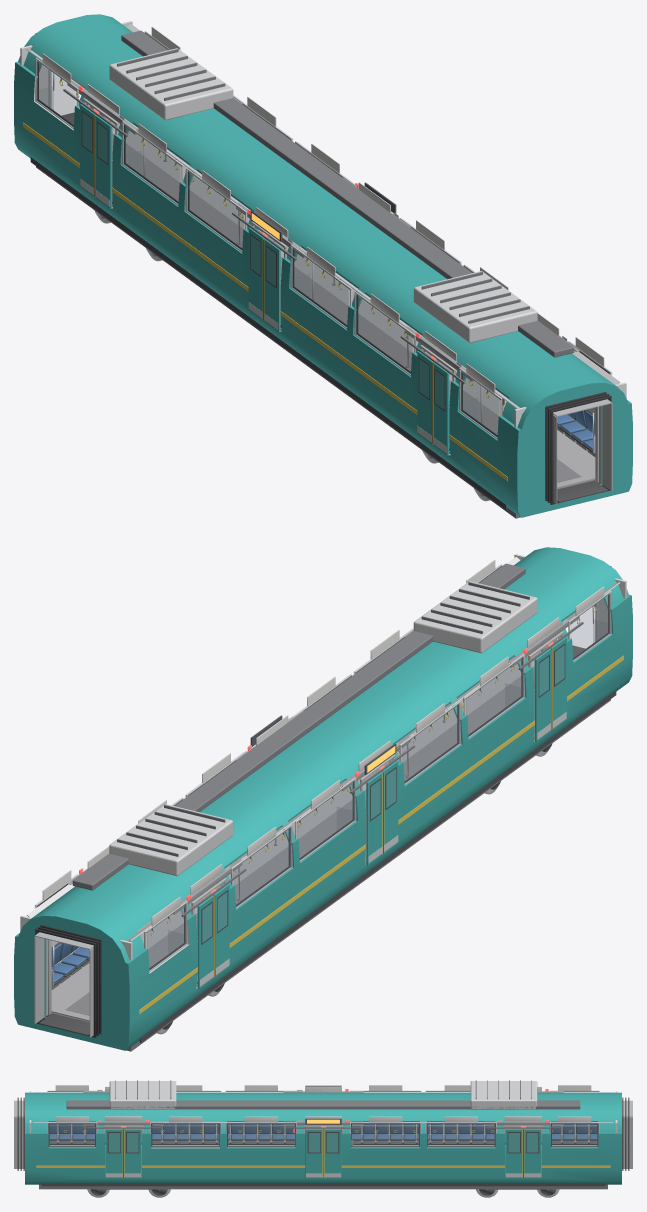
The model's file is t400_mid.glb.
3 renders of one model, top to bottom at view 1: azimuth 30°, elevation 25°; view 2: azimuth 150°, elevation 25°; view 3: azimuth 270°, elevation 25°, orthographic. The views are drawn at different scales.
Visible parts, largest first — view 1: T400_Mid_Shell, Static_Metal, Static_MetalDark, Static_Floor_Floor, Static_FloorDark_FloorAisle, StaticNC_PlasticWhite, Static_Rubber, Static_PlasticGrey, Static_PaintDark, Glass_2, Glass_4, Glass_1 (+13 smaller); view 2: T400_Mid_Shell, Static_Metal, Static_MetalDark, Static_Floor_Floor, Static_FloorDark_FloorAisle, StaticNC_PlasticWhite, Static_Rubber, Static_PlasticGrey, Static_PaintDark, Glass_3, Glass_1, Glass_4 (+13 smaller); view 3: T400_Mid_Shell, Static_MetalDark, Static_Metal, Static_Seat, Static_Rubber, StaticNC_PlasticWhite, Static_PaintDark, Static_PlasticGrey, Static_PlasticDark, Glass_10, Glass_7, Glass_8 (+25 smaller).
Boxes of the visible parts, x1,y1,x2,y2 form: T400_Mid_Shell: (14,14,632,517); Static_Metal: (35,31,611,501); Static_MetalDark: (36,30,599,518); Static_Floor_Floor: (107,119,595,488); Static_FloorDark_FloorAisle: (112,133,581,482); StaticNC_PlasticWhite: (42,27,604,393); Static_Rubber: (35,33,611,504); Static_PlasticGrey: (48,70,612,504); Static_PaintDark: (30,157,507,509); Glass_2: (290,246,349,328); Glass_4: (121,123,180,204); Glass_1: (354,293,412,375); T400_Mid_Shell: (14,547,632,1050); Static_Metal: (35,564,611,1034); Static_MetalDark: (47,563,610,1051); Static_Floor_Floor: (51,652,538,1021); Static_FloorDark_FloorAisle: (65,666,534,1015); StaticNC_PlasticWhite: (42,560,604,926); Static_Rubber: (35,566,611,1037); Static_PlasticGrey: (34,603,598,1037); Static_PaintDark: (139,690,616,1042); Glass_3: (297,779,356,861); Glass_1: (466,656,525,737); Glass_4: (234,826,292,908); T400_Mid_Shell: (25,1092,621,1184); Static_MetalDark: (39,1080,607,1195); Static_Metal: (47,1081,599,1197); Static_Seat: (49,1124,597,1139); Static_Rubber: (17,1091,629,1170); StaticNC_PlasticWhite: (55,1085,591,1122); Static_PaintDark: (41,1183,605,1186); Static_PlasticGrey: (14,1100,632,1168); Static_PlasticDark: (49,1124,597,1143); Glass_10: (426,1123,495,1147); Glass_7: (151,1123,220,1147); Glass_8: (226,1123,295,1147).
Size of the model in its own units: 2.96 by 3.97 by 22.3.
